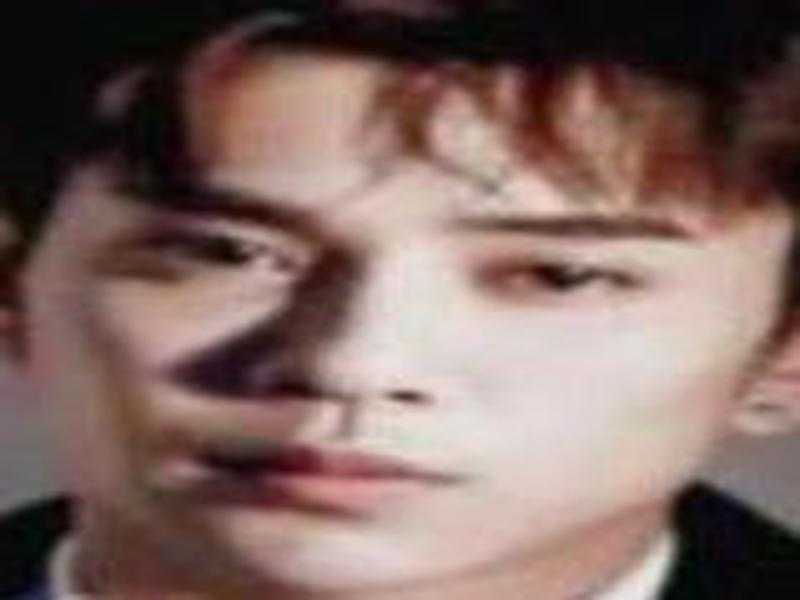without_mask: (36, 59, 736, 587)
